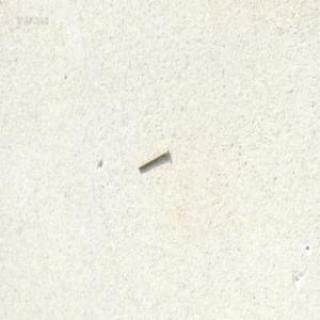Bolttrack_idkeyframe: (137, 146, 168, 169)
